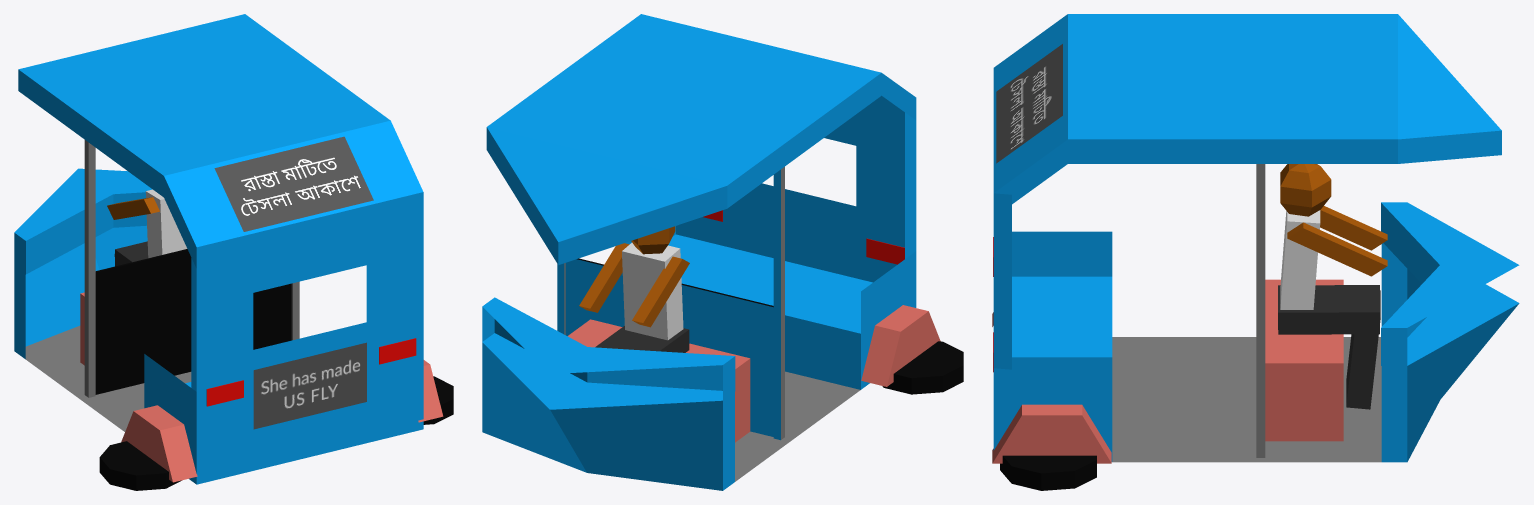
The model's file is TeslaSkin2.glb.
The picture shows the model from 3 angles, left to right: view 1: azimuth 30°, elevation 25°; view 2: azimuth 150°, elevation 25°; view 3: azimuth 270°, elevation 25°; orthographic projection. The views are drawn at different scales.
Parts seen in each view (by area): view 1: Tesla; view 2: Tesla; view 3: Tesla.
Boxes of the visible parts, x1=… form: Tesla: x1=14, y1=14, x2=453, y2=490; Tesla: x1=482, y1=14, x2=963, y2=490; Tesla: x1=992, y1=14, x2=1519, y2=490.
Size of the model in its own units: 3.03 by 2.4 by 3.55.
10 materials, 2 textured.
